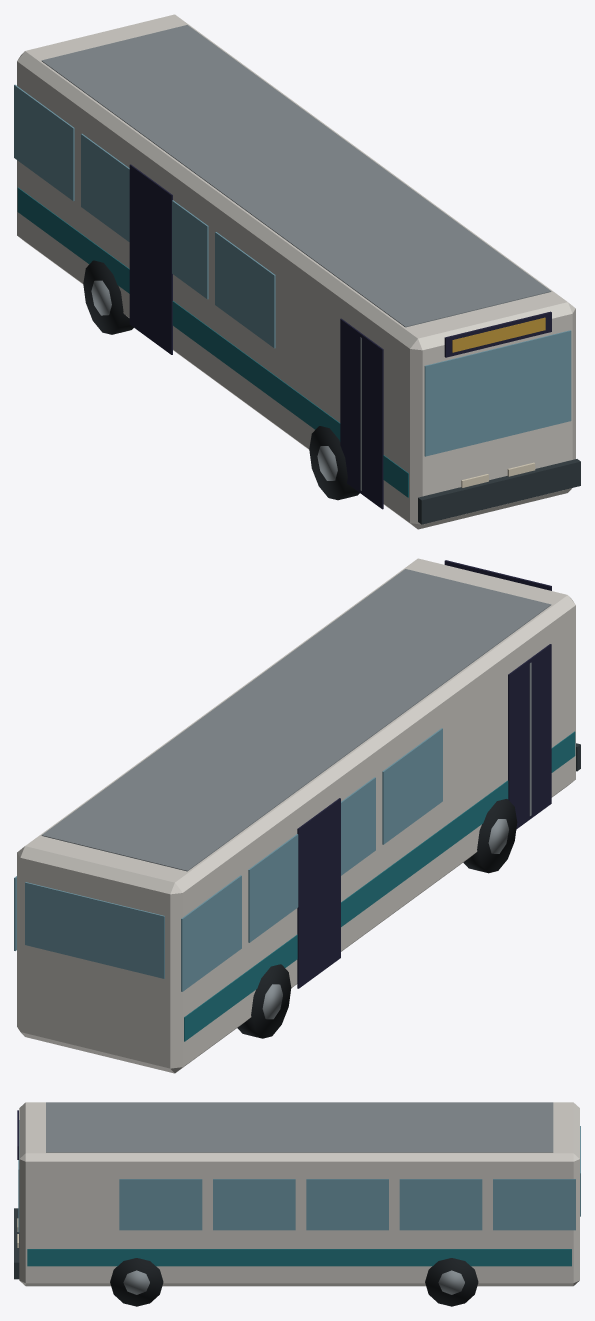
File: bus_campus.glb
The picture shows the model from 3 angles, top to bottom: view 1: azimuth 30°, elevation 25°; view 2: azimuth 150°, elevation 25°; view 3: azimuth 270°, elevation 25°; orthographic projection. The views are drawn at different scales.
Visible parts, largest first — view 1: bus_campus; view 2: bus_campus; view 3: bus_campus.
Part boxes in pixels (box(x1,y1,x2,y2)): bus_campus: box(14, 14, 580, 529); bus_campus: box(14, 558, 580, 1073); bus_campus: box(14, 1102, 580, 1306).
Bounding box in the file's own units: 2.6 × 3.11 × 10.62.
